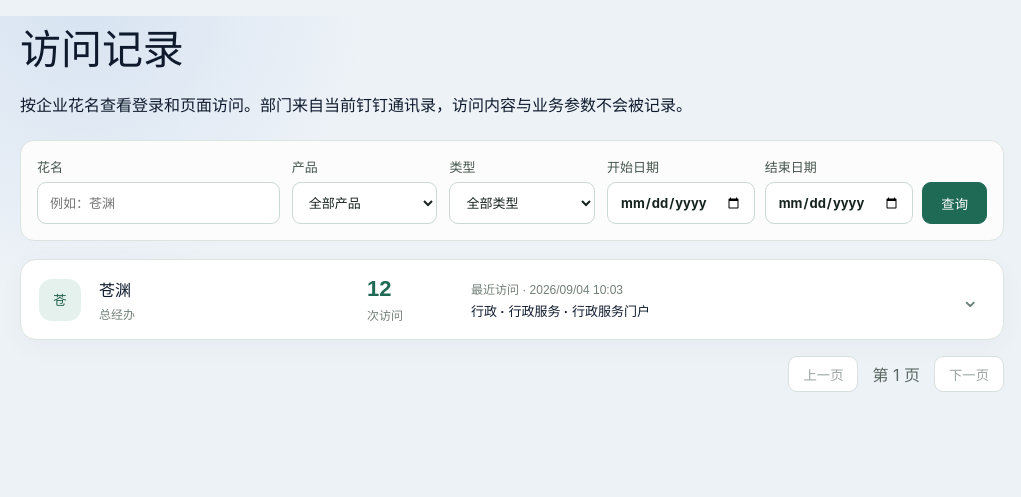
AccessHistoryPage › distinguishes index and expanded timeline failures
Click the button "苍 苍渊 总经办 12 次访问 最近访问 · 2026/09/04 10:03 行政 · 行政服务 · 行政服务门户 ⌄": [512, 300] box [21,260,1003,339]
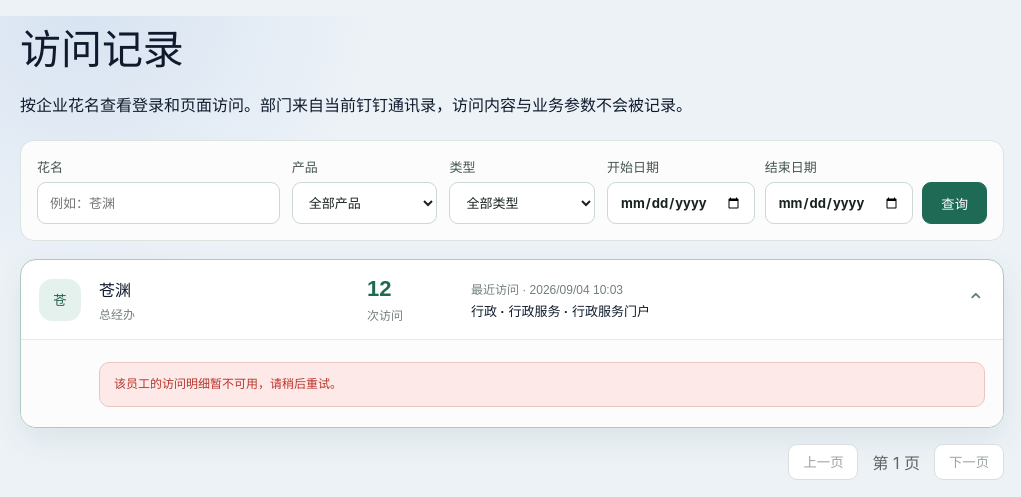
Result: the message "该员工的访问明细暂不可用，请稍后重试。" is shown at [99,362,985,407]
